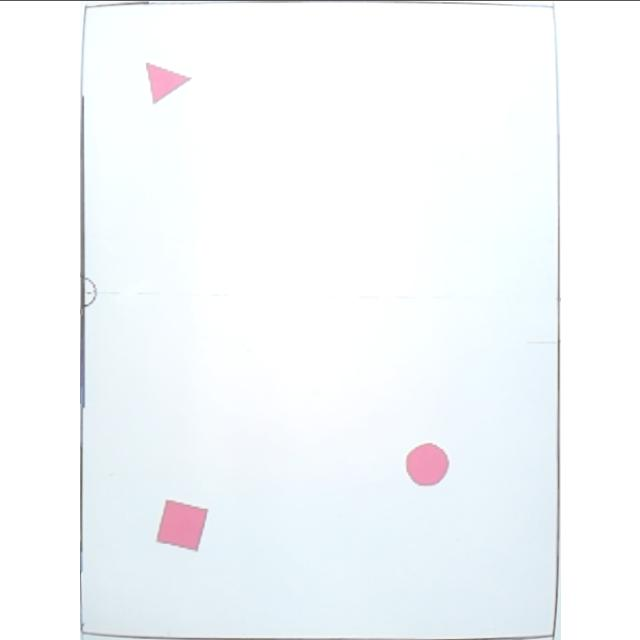pinkCircle: (402, 439, 450, 486)
pinkSquare: (154, 496, 208, 552)
pinkTriangle: (144, 59, 192, 102)
